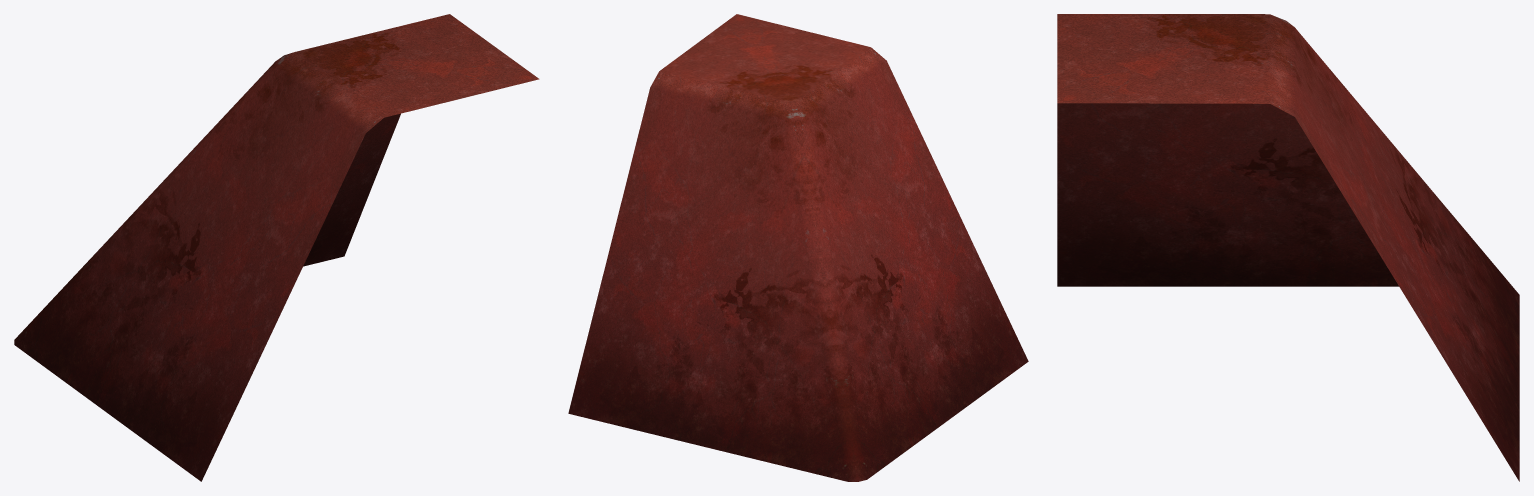
The model's file is SM_Foundation_C_Angle.glb.
3 views of the same model, side by side, from view 1: azimuth 30°, elevation 25°; view 2: azimuth 150°, elevation 25°; view 3: azimuth 270°, elevation 25° (orthographic). The views are drawn at different scales.
Parts seen in each view (by area): view 1: SM_Foundation_C_Angle; view 2: SM_Foundation_C_Angle; view 3: SM_Foundation_C_Angle.
Part boxes in pixels (<box>): SM_Foundation_C_Angle: <box>14,14,539,481</box>; SM_Foundation_C_Angle: <box>568,14,1028,481</box>; SM_Foundation_C_Angle: <box>1057,14,1519,481</box>.
Size of the model in its own units: 4.34 by 3.93 by 4.34.
Materials: 1 (1 with a texture image).
